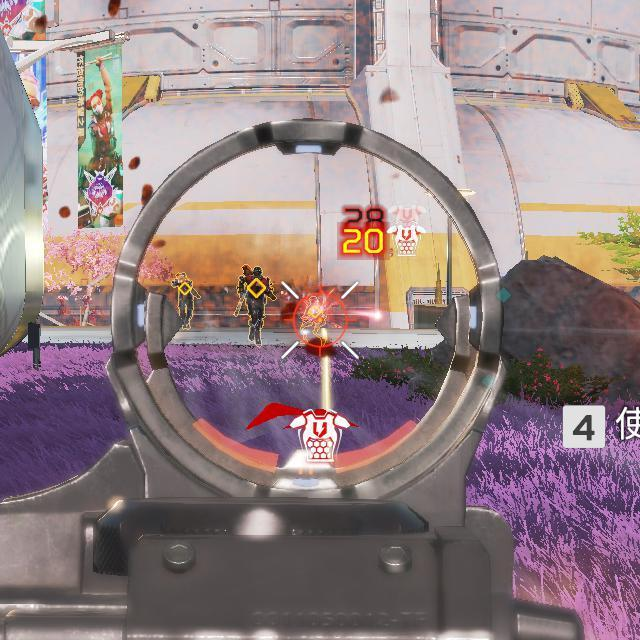avatar: (237, 264, 274, 349), (171, 270, 197, 331)
object: (246, 276, 268, 300), (178, 281, 193, 297)
